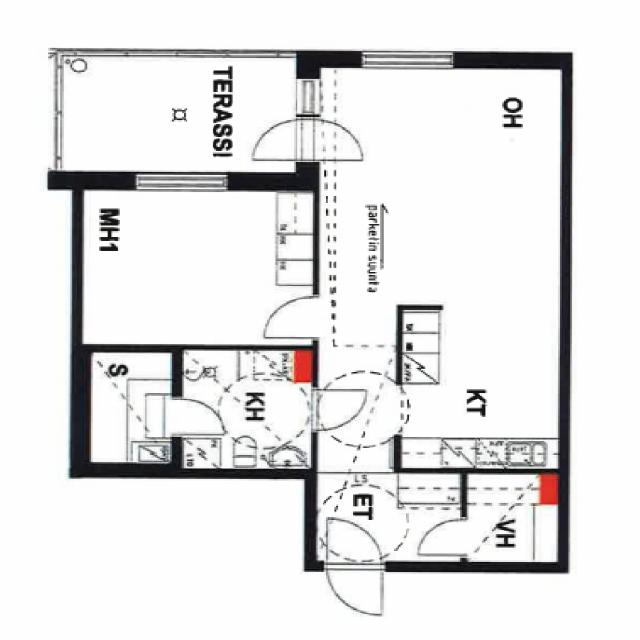door: (326, 516, 381, 568), (326, 562, 381, 614), (296, 118, 364, 160), (247, 118, 314, 160), (262, 296, 316, 336), (311, 388, 365, 428), (172, 398, 225, 434), (417, 518, 466, 554)
